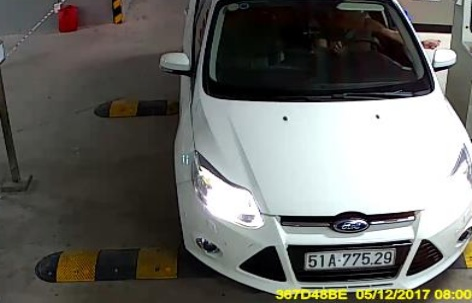plate: (297, 246, 401, 274)
